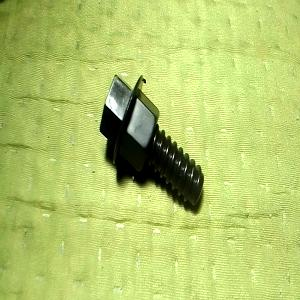parafuso: (100, 74, 205, 210)
